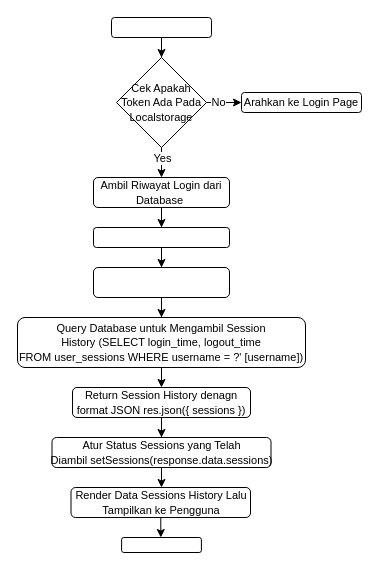
The diagram is 379 pixels wide and 570 high, and some of its shapes have lost their labels. The centre of each missing label's shape, as x and y in pixels:
Ekstrak Username Berdasarkan Request.user: the point at 161,282
End: the point at 161,544
Get User Login Sessions: the point at 161,237
User Sessions: the point at 161,27
